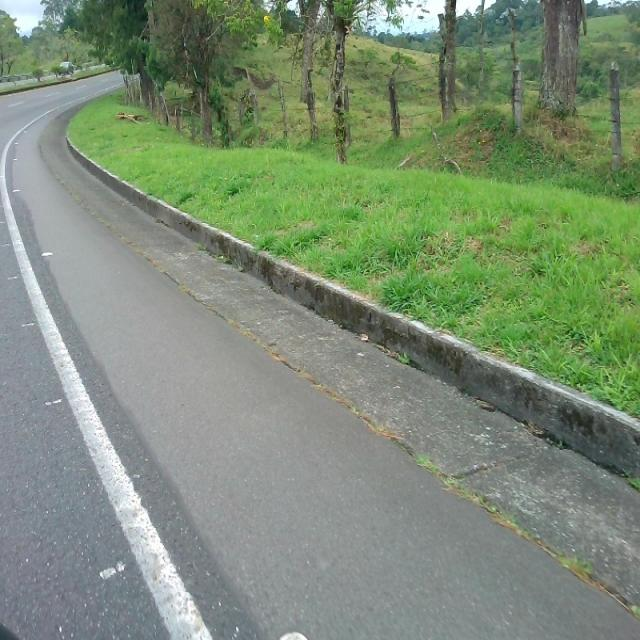DITCH: (13, 75, 639, 636), (1, 166, 638, 638), (1, 178, 639, 638)
